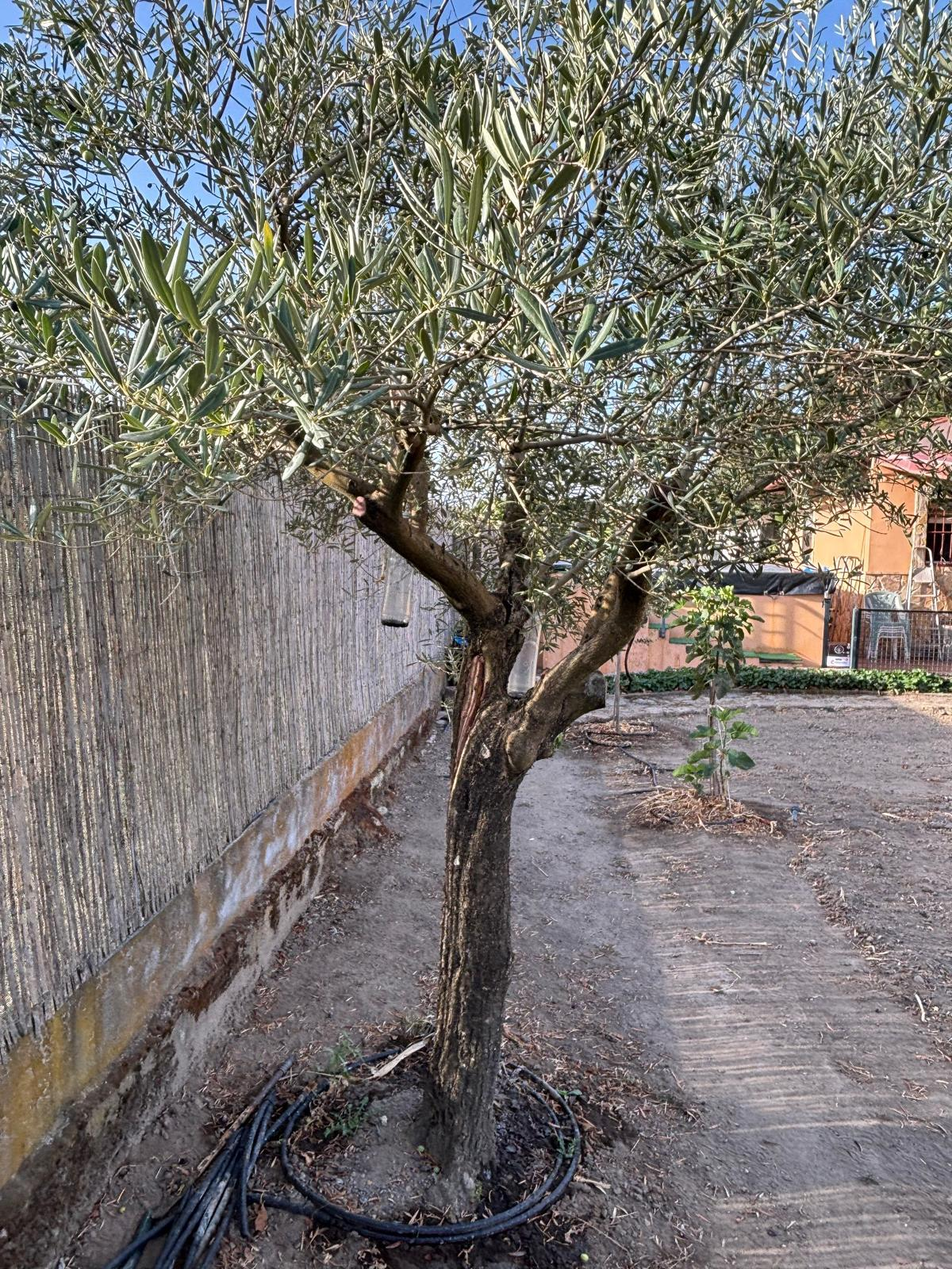olivo: (61, 51, 924, 1215)
